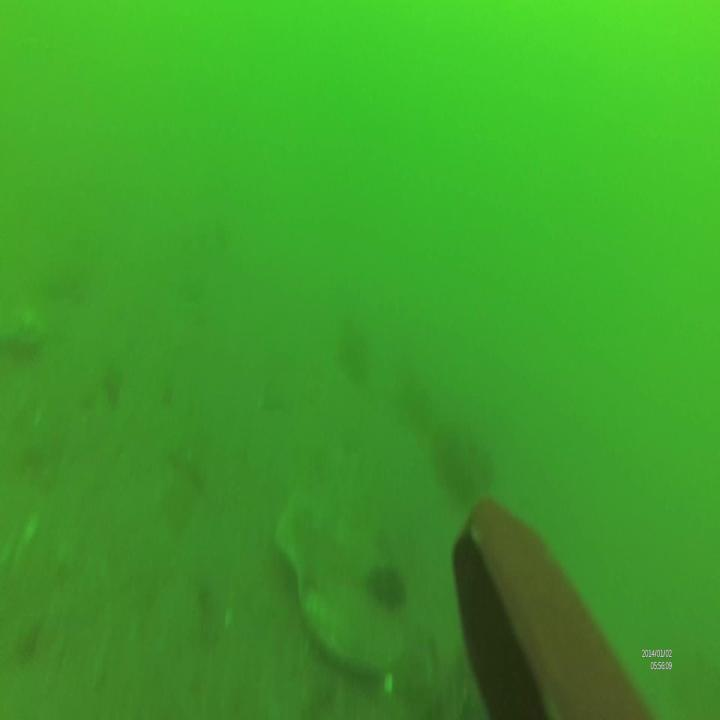echinus: (433, 426, 499, 504), (369, 566, 406, 613)
scallop: (304, 576, 403, 685)
